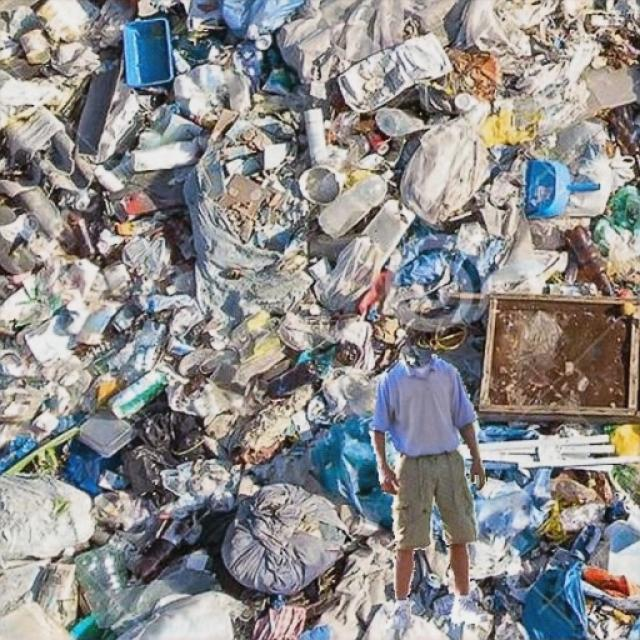Person in Rubble: (368, 353, 486, 628)
